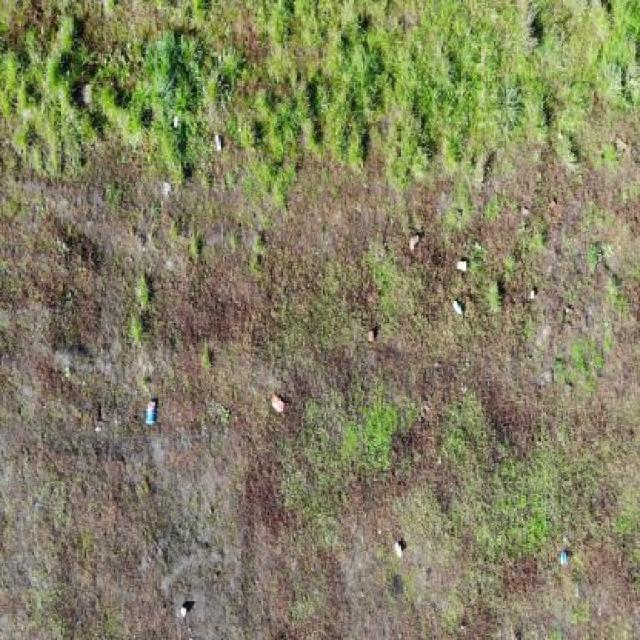Garbage: (270, 393, 286, 414), (146, 401, 155, 427), (452, 298, 464, 317), (410, 234, 420, 252), (457, 259, 467, 274), (394, 541, 402, 559), (558, 551, 566, 567), (214, 133, 221, 151), (178, 606, 187, 618), (368, 328, 375, 342), (557, 129, 564, 138), (529, 289, 534, 301), (173, 116, 178, 127), (94, 426, 100, 434), (252, 385, 256, 395), (81, 380, 85, 386), (114, 420, 117, 425), (252, 373, 255, 378)
